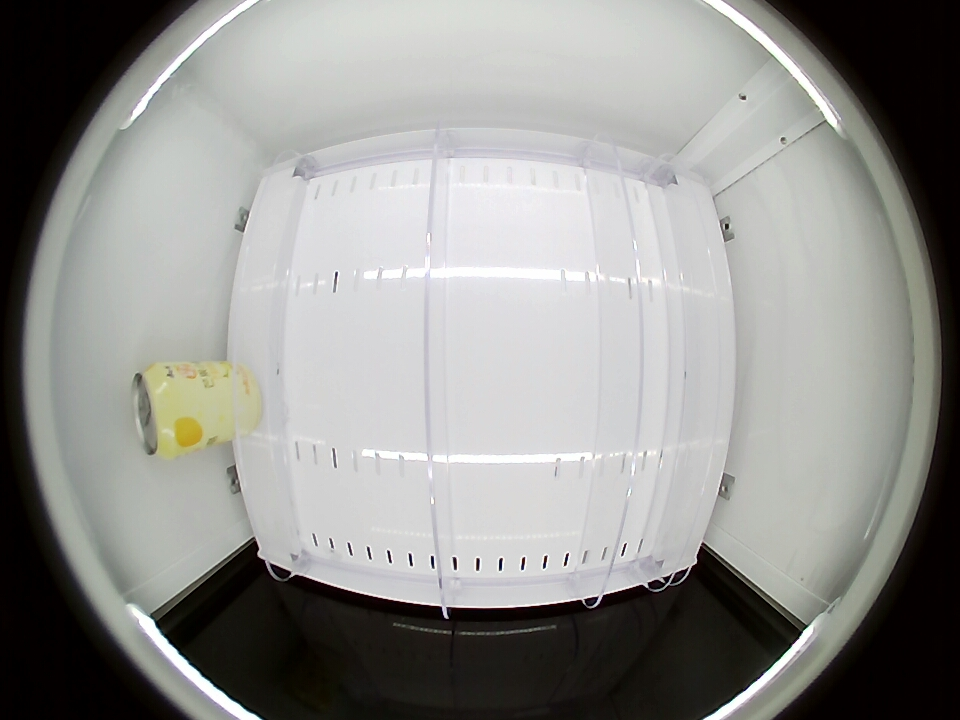mangguoxiaolao: (131, 363, 190, 458)
